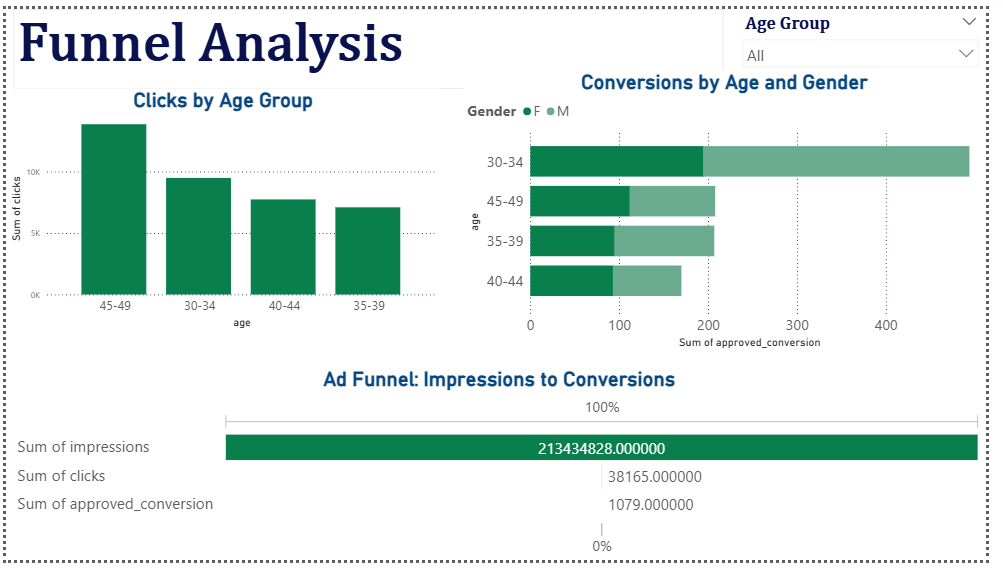

The dashboard page shown, as its layout file describes it:
{"tool":"powerbi","page":{"name":"Page 2","canvas":[1280,720],"ordinal":1},"visuals":[{"type":"textbox","box":[10,0,928,104],"z":0},{"type":"funnel","title":"Ad Funnel: Impressions to Conversions","fields":{"Y":["Sum(cleaned_ad_data (1).impressions)","Sum(cleaned_ad_data (1).clicks)","Sum(cleaned_ad_data (1).approved_conversion)"]},"box":[10,468,1270,252],"z":1000},{"type":"columnChart","title":"Clicks by Age Group","fields":{"Y":["Sum(cleaned_ad_data (1).clicks)"],"Category":["cleaned_ad_data (1).age"]},"box":[0,104,568,318],"z":2000},{"type":"barChart","title":"Conversions by Age and Gender","fields":{"Category":["cleaned_ad_data (1).age"],"Series":["cleaned_ad_data (1).gender"],"Y":["Sum(cleaned_ad_data (1).approved_conversion)"]},"box":[598,80,682,368],"z":3000},{"type":"slicer","fields":{"Values":["cleaned_ad_data (1).age"]},"box":[952,0,328,80],"z":4000}]}

Visuals, with their boxes in screenshot pixels (x1, y1, x2, y2), scaled from the page's 1280x720 canvas onto the 1003x574 screenshot:
textbox: Rect(8, 0, 735, 83)
"Ad Funnel: Impressions to Conversions" funnel: Rect(8, 373, 1002, 573)
"Clicks by Age Group" columnChart: Rect(0, 83, 445, 336)
"Conversions by Age and Gender" barChart: Rect(469, 64, 1002, 357)
slicer - cleaned_ad_data (1).age: Rect(746, 0, 1002, 64)
